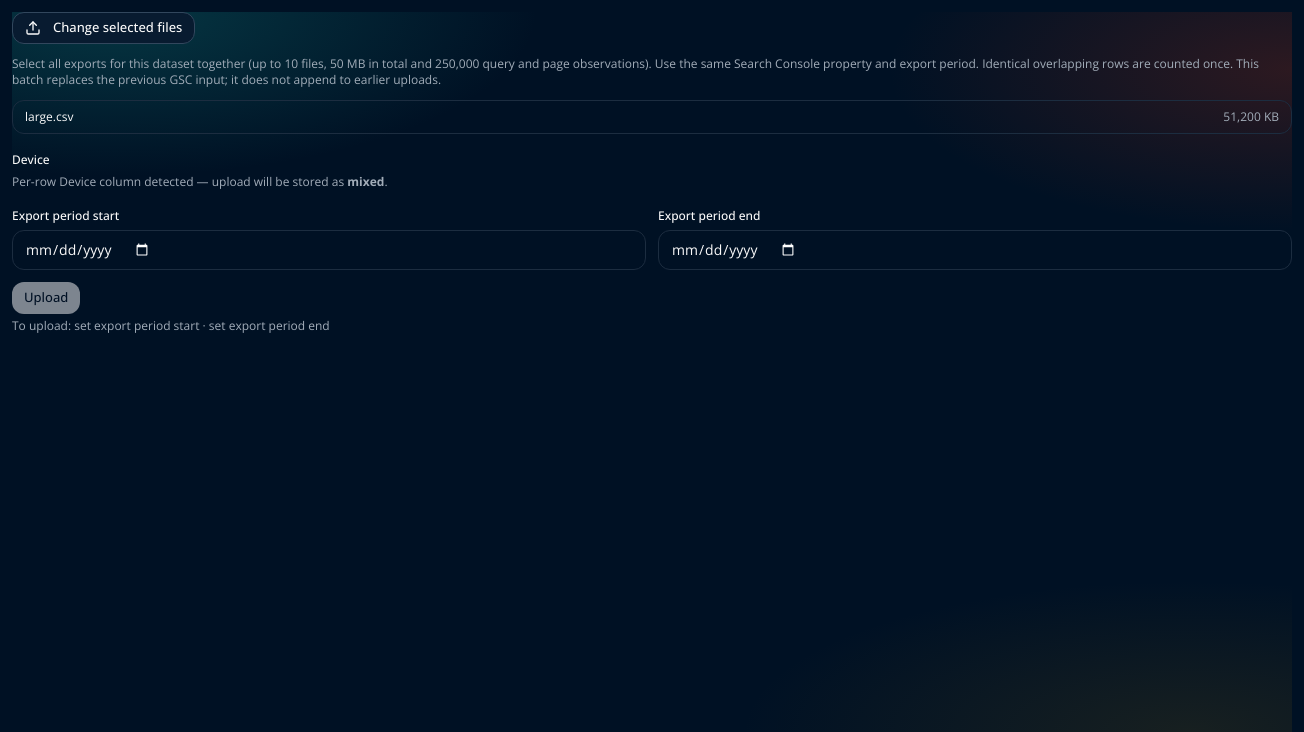
it: GSC upload selection › allows a 50 MB file and displays the observation limit
The width and height of the screenshot is (1304, 732).
Earlier steps of the test are not shown.
Expected: the text "50 MB in total and 250,000 query and page observations" is shown, left=12, top=56, right=1292, bottom=88
Expected: the text "large.csv" is shown, left=25, top=109, right=74, bottom=125
Step 1. Type "2025-09-01" into the date field labelled "Export period start" → (329,250), box left=12, top=230, right=646, bottom=270
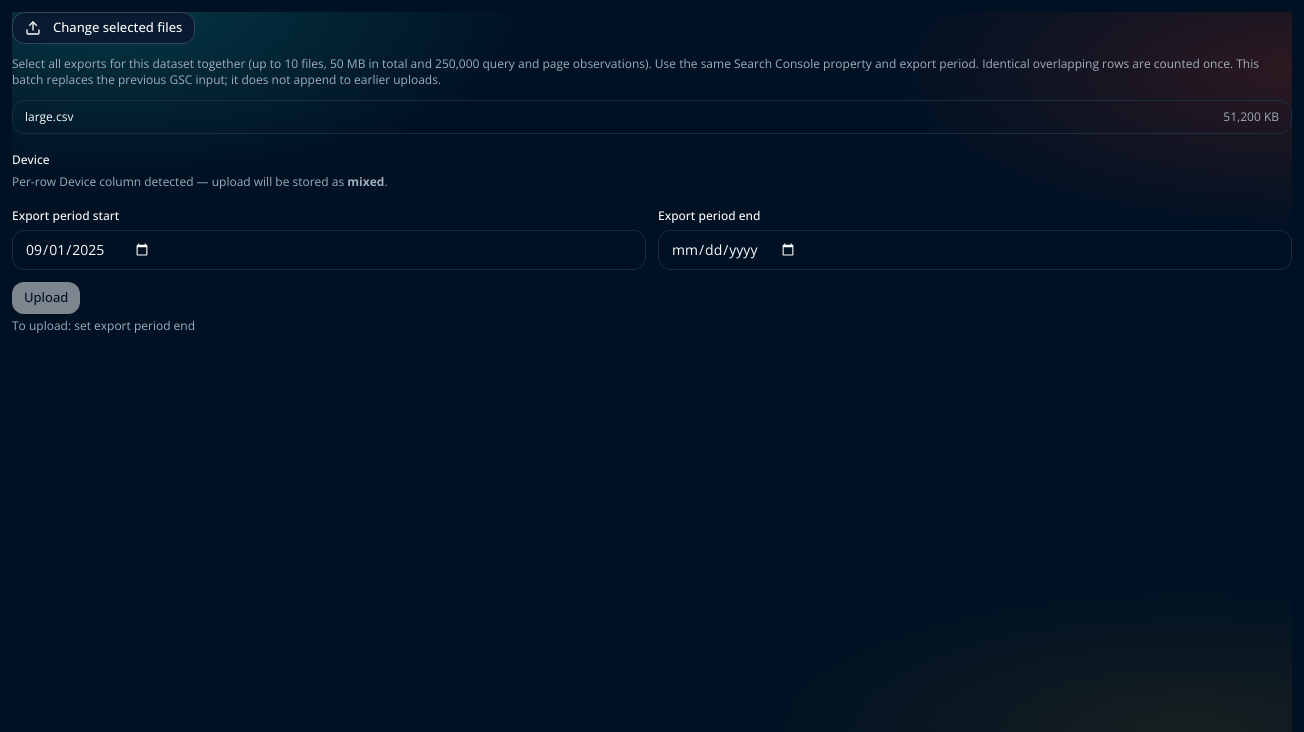
Step 2. Type "2026-08-31" into the date field labelled "Export period end" → (975,250), box left=658, top=230, right=1292, bottom=270
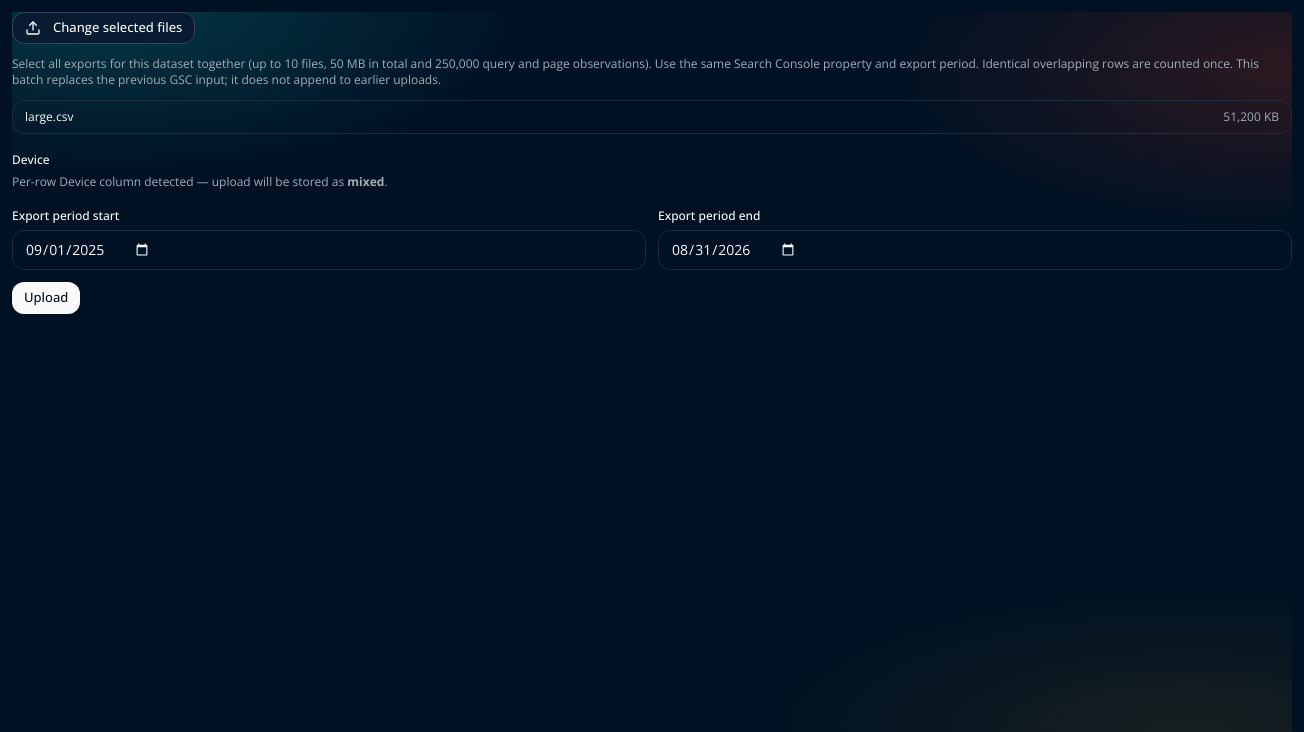
Now the button "Upload" is enabled
Step 3. Click the button "Upload" → (46,298), box left=12, top=282, right=80, bottom=314
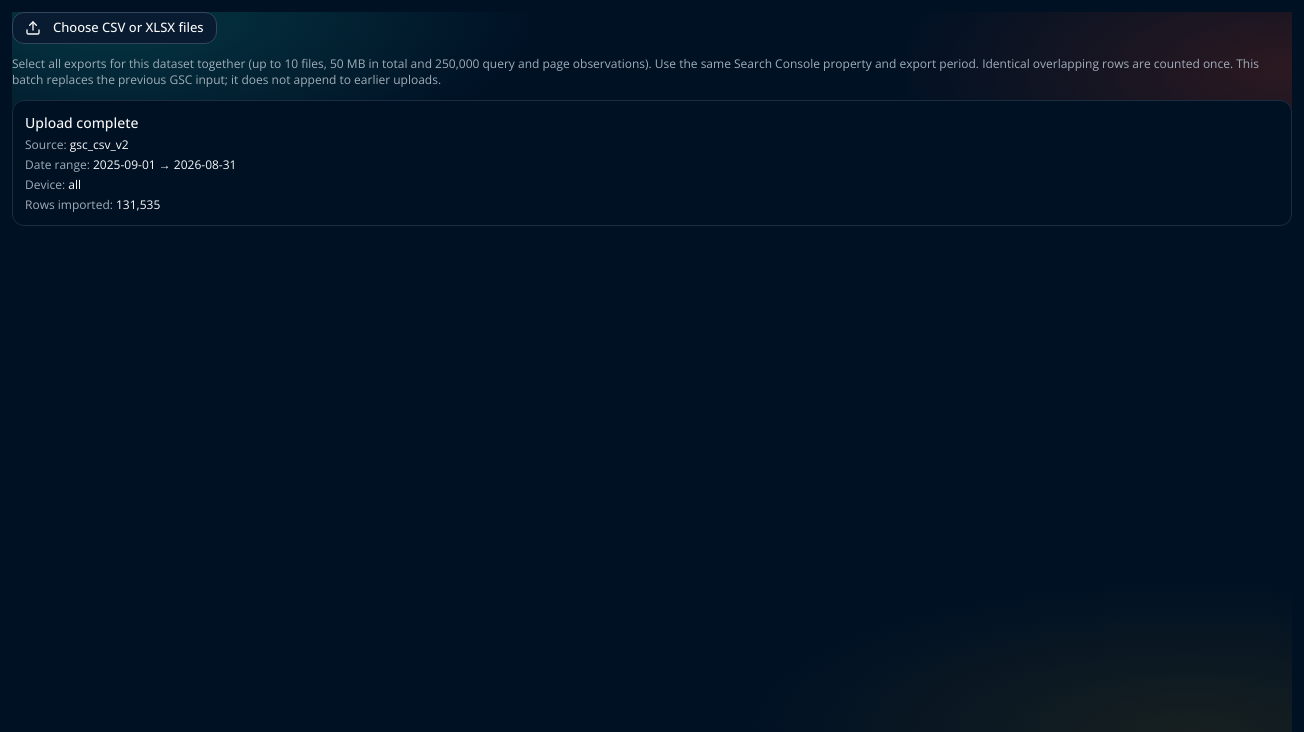
Now the text "Upload complete" is shown, box left=25, top=113, right=138, bottom=132
